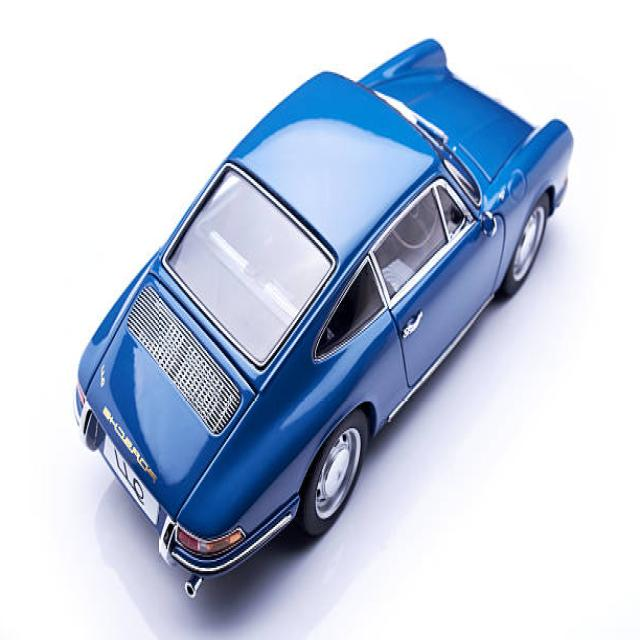Car: (73, 36, 575, 599)
